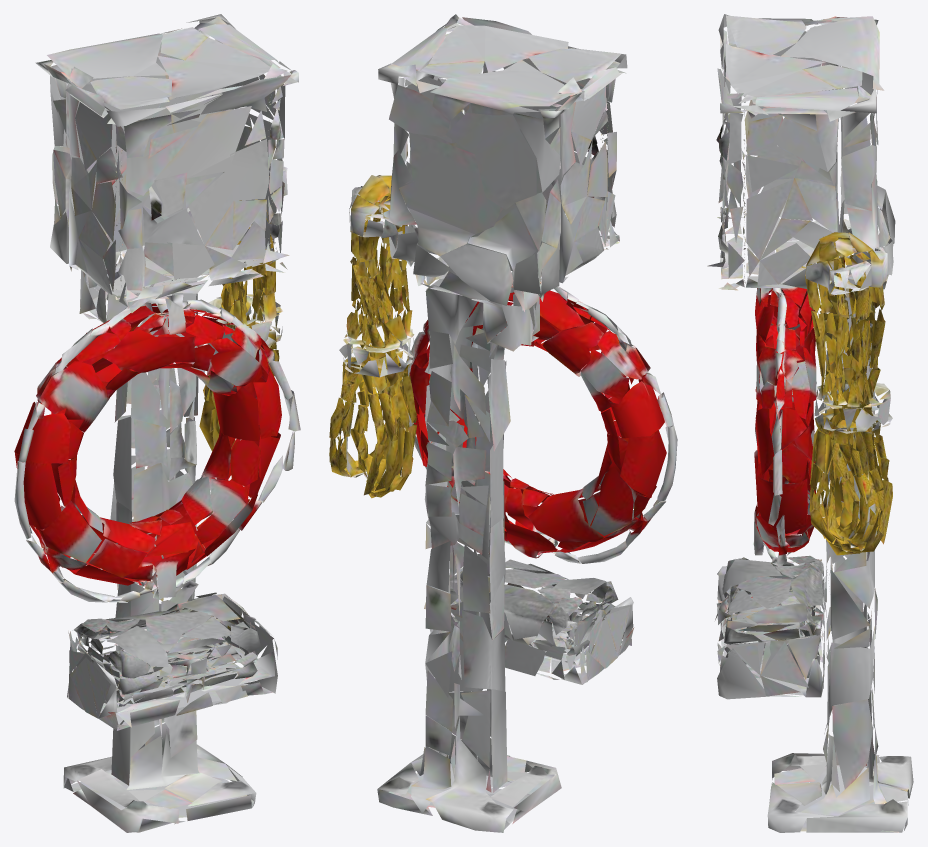
File: rescue-stand.glb
3 renders of one model, left to right at view 1: azimuth 30°, elevation 25°; view 2: azimuth 150°, elevation 25°; view 3: azimuth 270°, elevation 25°, orthographic. The views are drawn at different scales.
Parts seen in each view (by area): view 1: Mesh_0; view 2: Mesh_0; view 3: Mesh_0.
Boxes of the visible parts, box(x1,y1,x2,y2) form: Mesh_0: box(14, 14, 300, 832); Mesh_0: box(329, 14, 677, 832); Mesh_0: box(707, 14, 913, 832).
Bounding box in the file's own units: 0.8181 × 1.91 × 0.4846.
1 material, 1 textured.
